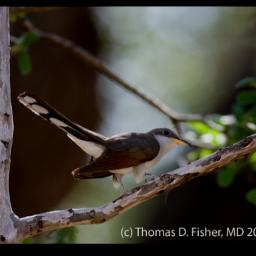Cuckoo: (15, 84, 196, 204)
